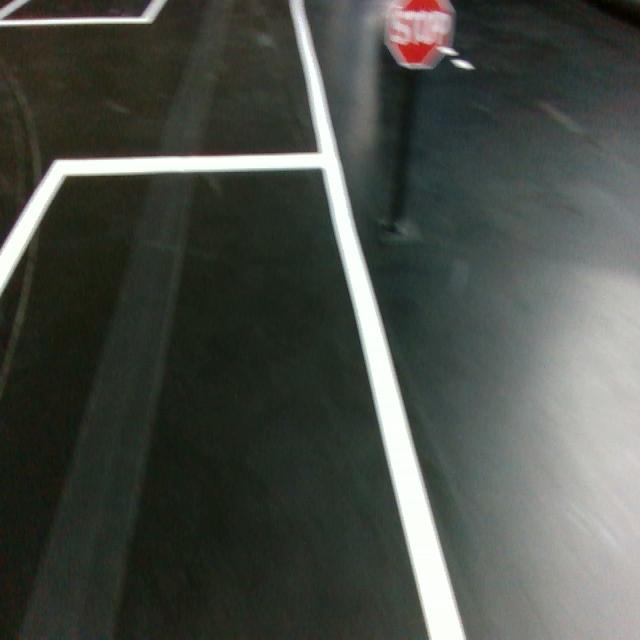stop-sign: (383, 0, 457, 69)
